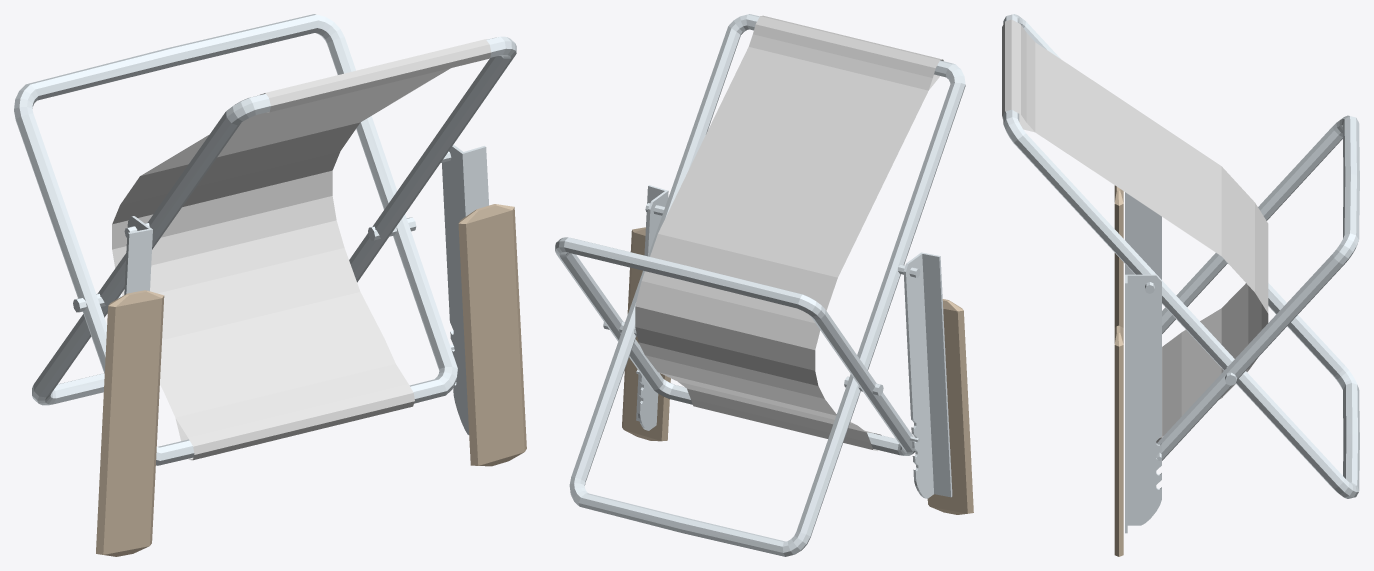
Rendered from BEACHAIR.glb.
3 renders of one model, left to right at view 1: azimuth 30°, elevation 25°; view 2: azimuth 150°, elevation 25°; view 3: azimuth 270°, elevation 25°, orthographic. The views are drawn at different scales.
Parts seen in each view (by area): view 1: _0; view 2: _0; view 3: _0.
Boxes of the visible parts, <box> form: _0: <box>14,14,526,556</box>; _0: <box>555,14,973,556</box>; _0: <box>1002,14,1359,556</box>.
Size of the model in its own units: 4.6 by 5 by 3.94.
